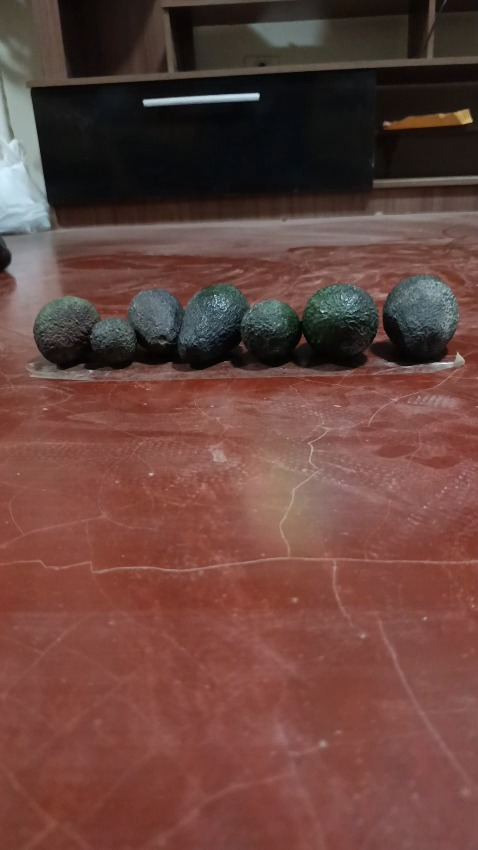Primera: (382, 274, 459, 361), (301, 282, 380, 360), (178, 283, 249, 366)
Segunda: (33, 295, 100, 367), (240, 299, 300, 366), (127, 287, 184, 355)
Tercera: (87, 317, 137, 369)
